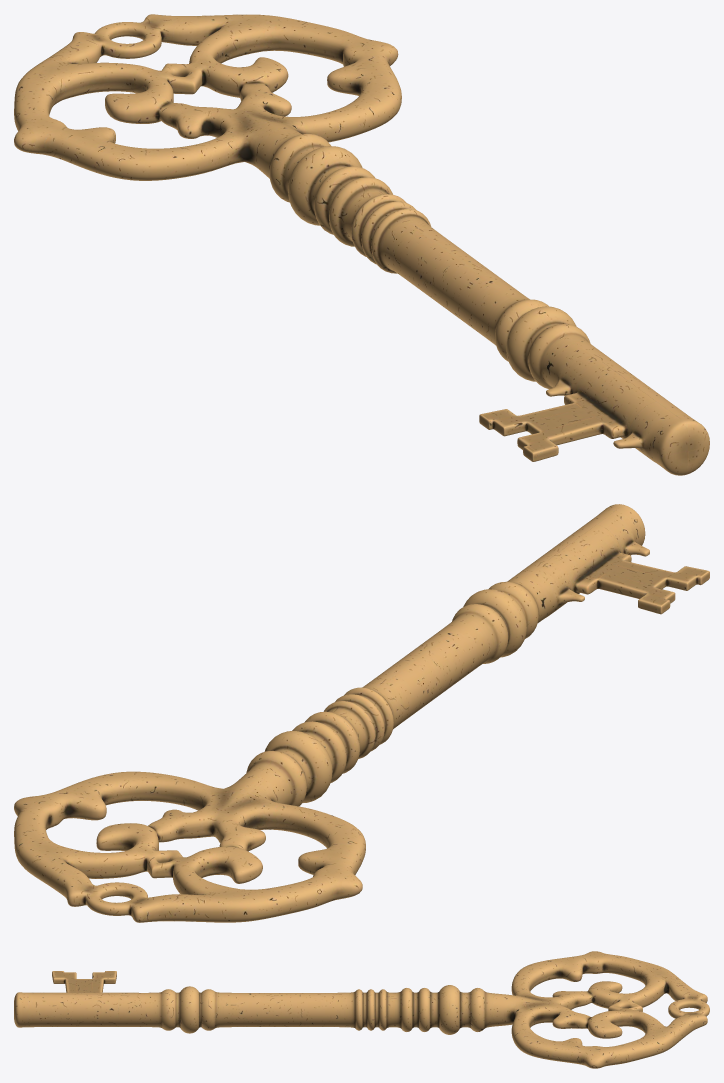
The model's file is key.glb.
The picture shows the model from 3 angles, top to bottom: view 1: azimuth 30°, elevation 25°; view 2: azimuth 150°, elevation 25°; view 3: azimuth 270°, elevation 25°; orthographic projection. The views are drawn at different scales.
Visible parts, largest first — view 1: key; view 2: key; view 3: key.
Part boxes in pixels (box(x1,y1,x2,y2)): key: box(14, 14, 709, 475); key: box(14, 504, 709, 922); key: box(14, 951, 709, 1068).
Size of the model in its own units: 1.59 by 0.2998 by 4.17.
1 material, 1 textured.
